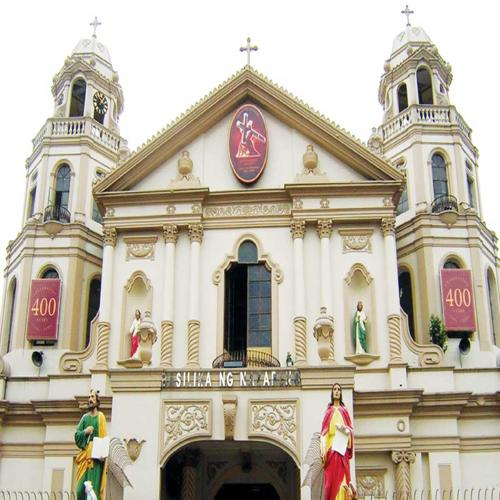Quiapo Church: (14, 1, 490, 491)
